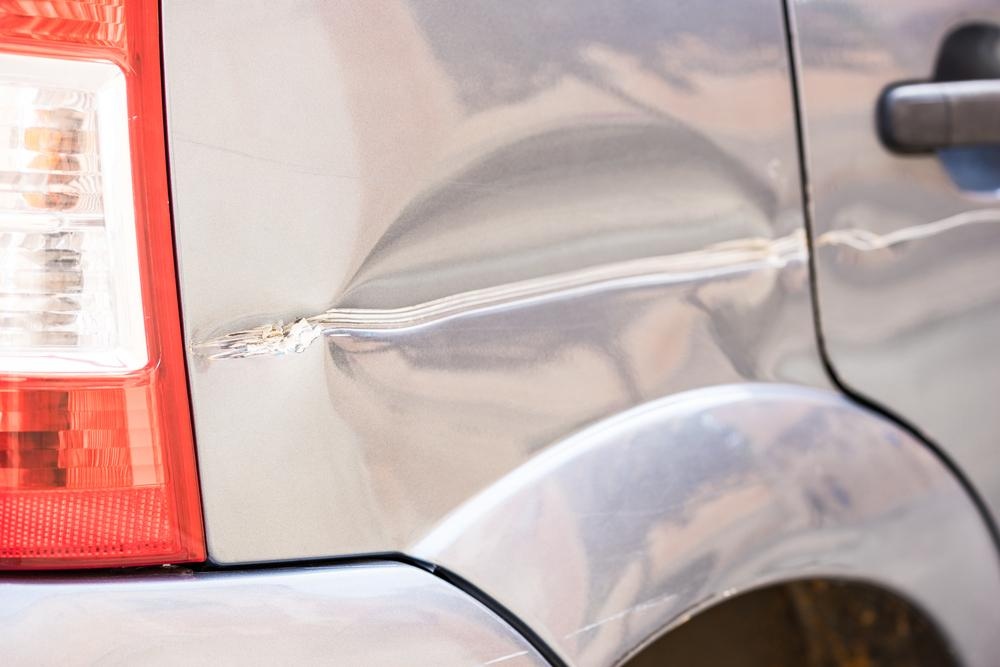dent: (330, 120, 786, 544)
scratch: (191, 302, 339, 365)
